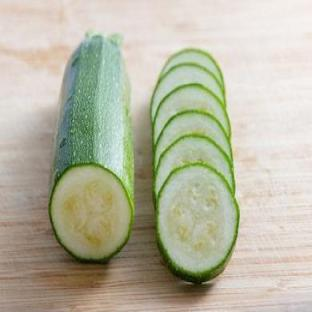Zucchini: (49, 35, 134, 261), (156, 164, 239, 283), (155, 135, 235, 196), (153, 84, 230, 142), (151, 63, 225, 121), (154, 111, 231, 166), (161, 48, 223, 86)
